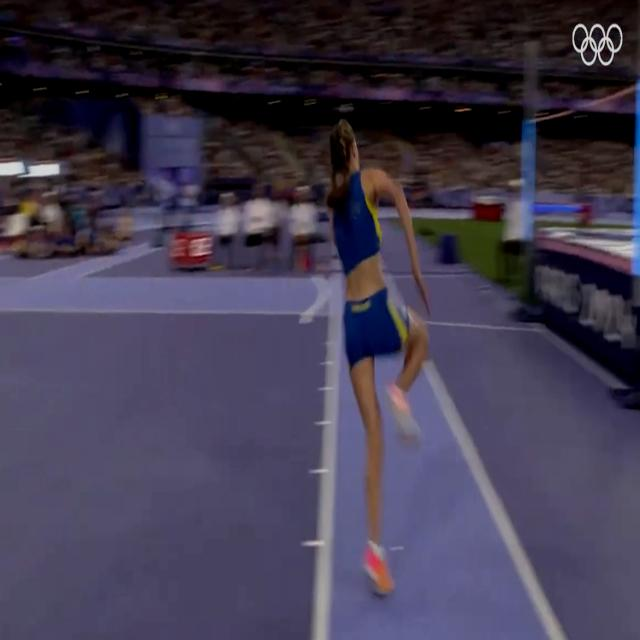run: (326, 121, 436, 603)
